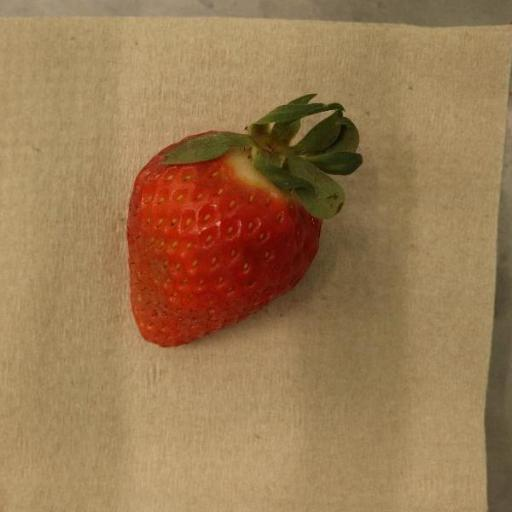Strawberry: (127, 93, 365, 349)
